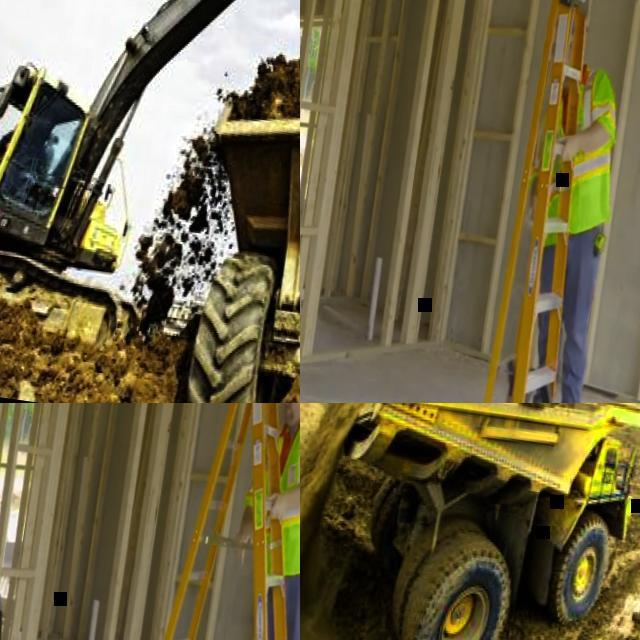Robbery: (538, 50, 622, 403), (247, 403, 296, 640)
